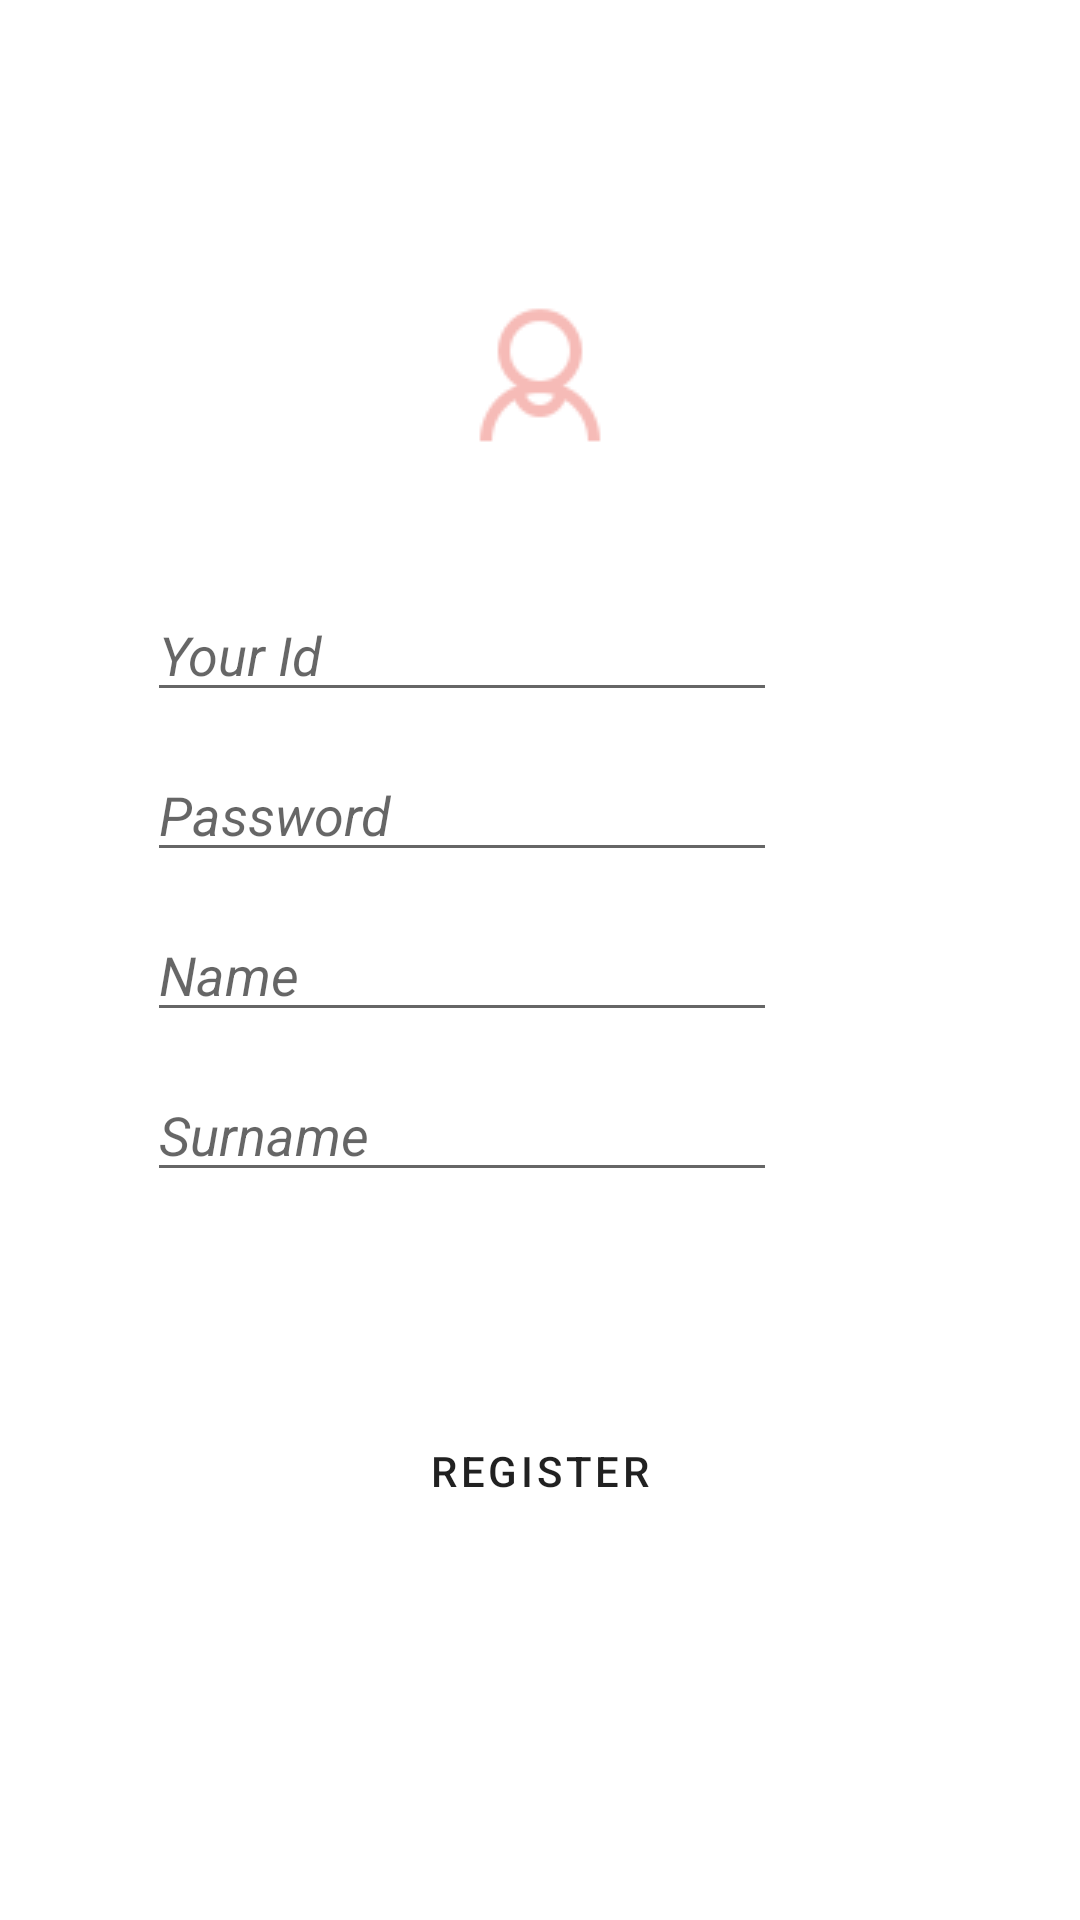

Icons on this 1080*1920 Android screen, each with its box as region(x1, y1, x2, y2):
user: region(480, 309, 600, 441)
